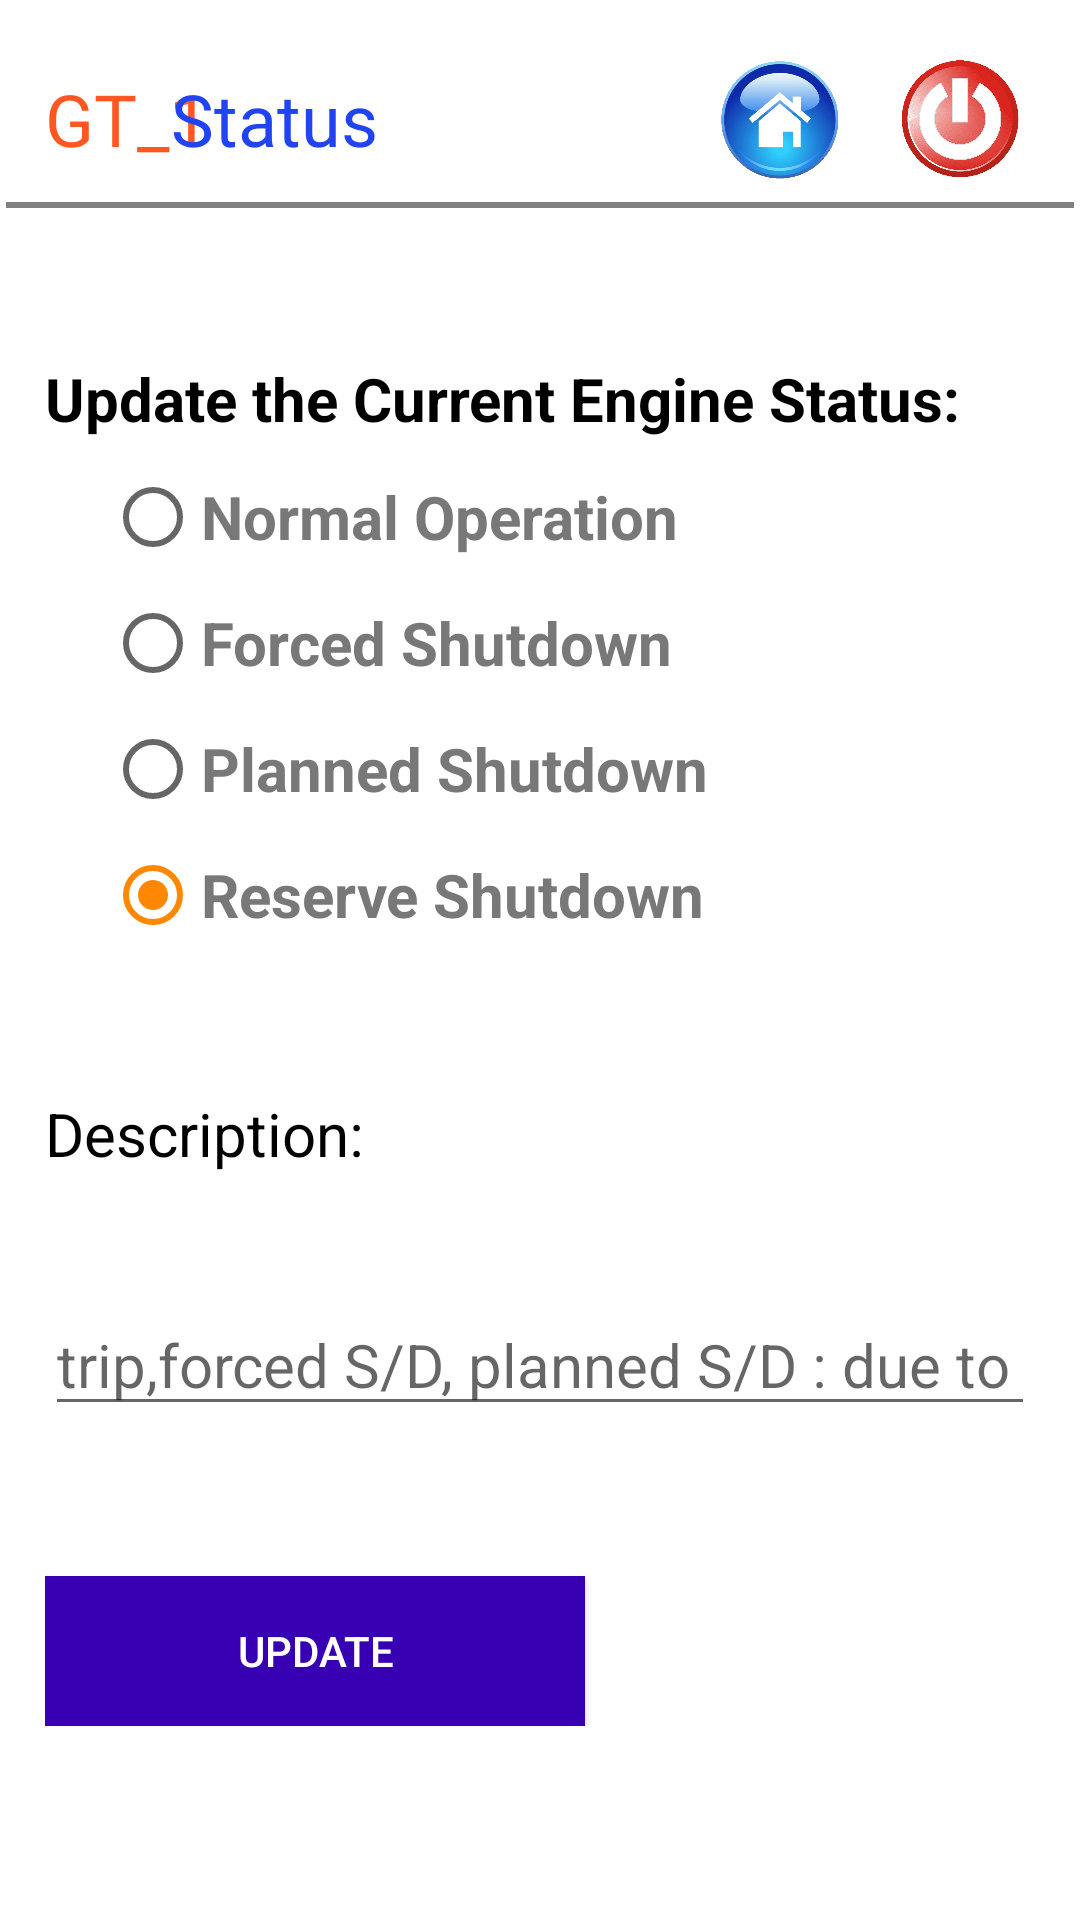

Point at icon controls on the screen. Image size 1080x1920, points as point (x, y).
home: point (780, 120)
sign out: point (960, 118)
